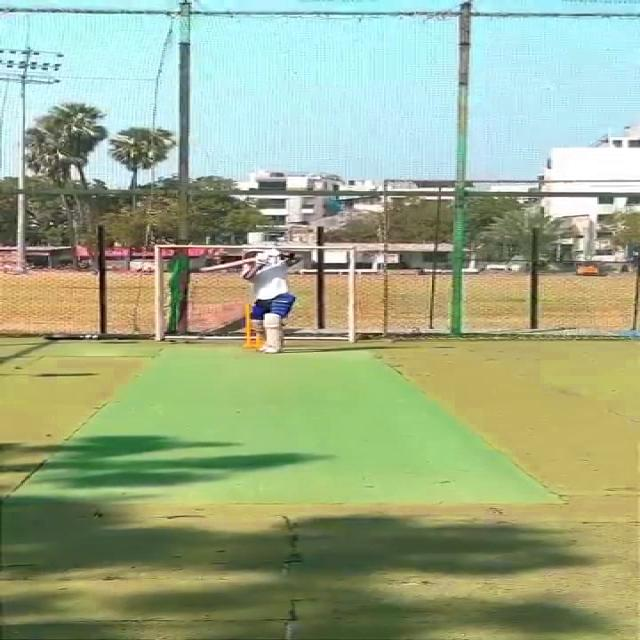batsman: (195, 246, 306, 355)
